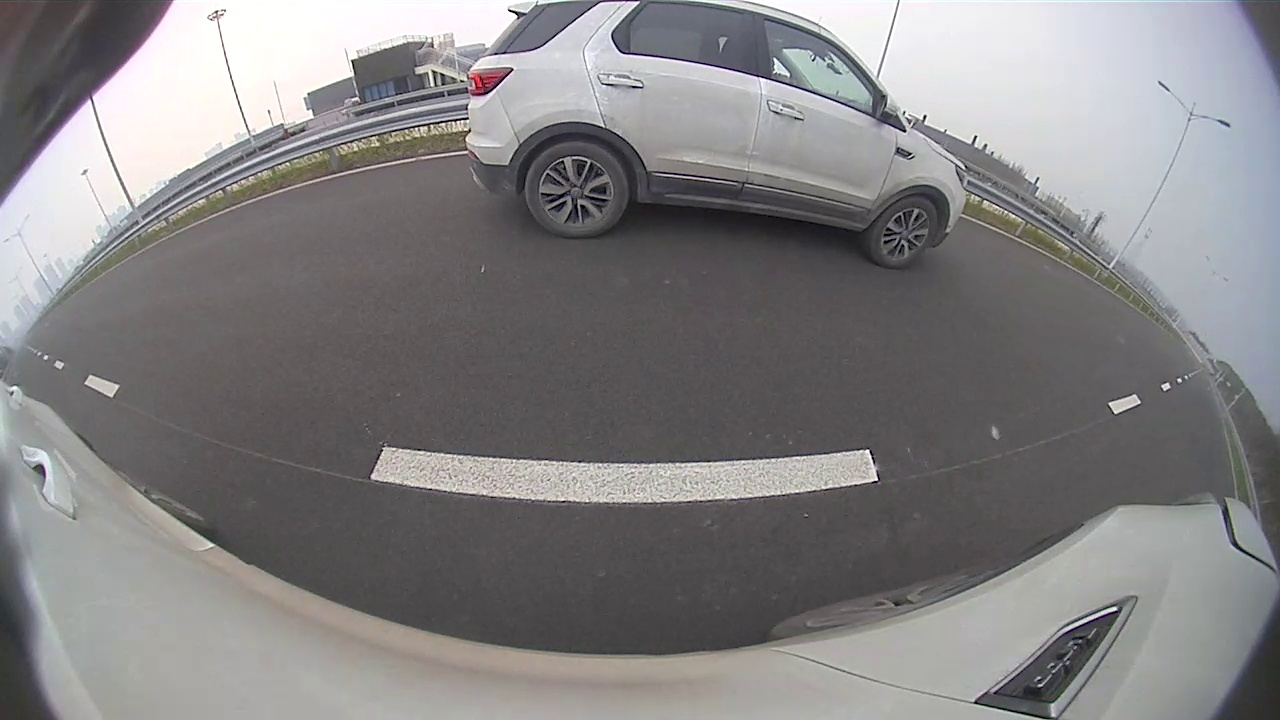car: (465, 1, 968, 270)
front: (870, 196, 940, 267)
rear: (526, 140, 629, 240)
